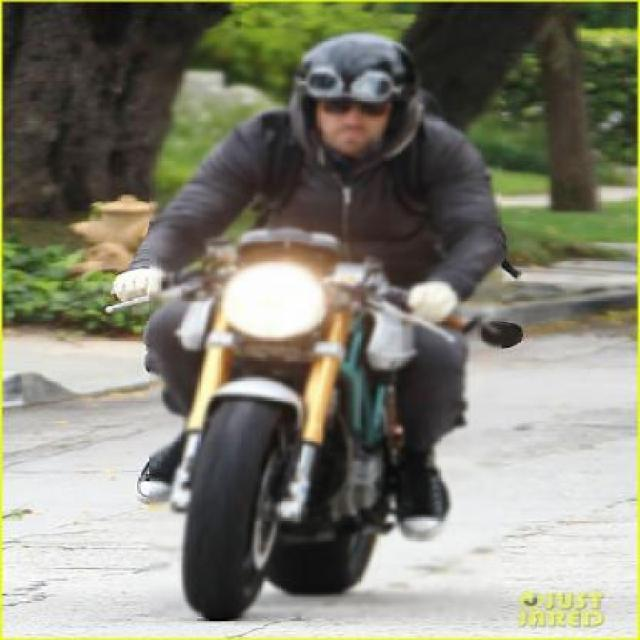helmet: (266, 22, 451, 172)
motorcycle: (98, 16, 534, 628)
